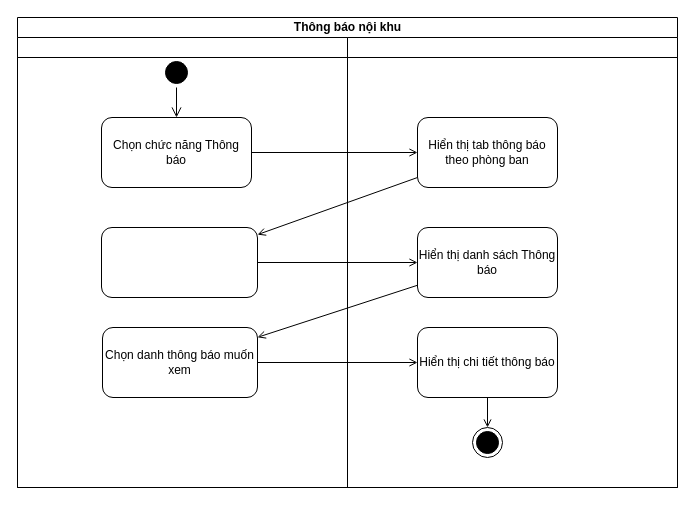
Some shapes in this 695 by 505 pixel diagram are drawn without their labels. The box of each missing label's shape, as (x1, y1, x2, y2) in pixels:
Chọn phòng ban: (100, 226, 258, 298)
Hệ thống: (346, 36, 678, 488)
Người dùng: (16, 36, 348, 488)
